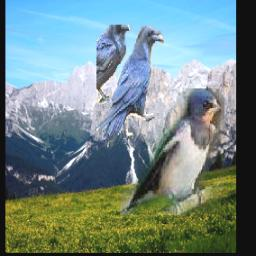Crow: (97, 25, 165, 144)
Swallow: (120, 89, 224, 216)
